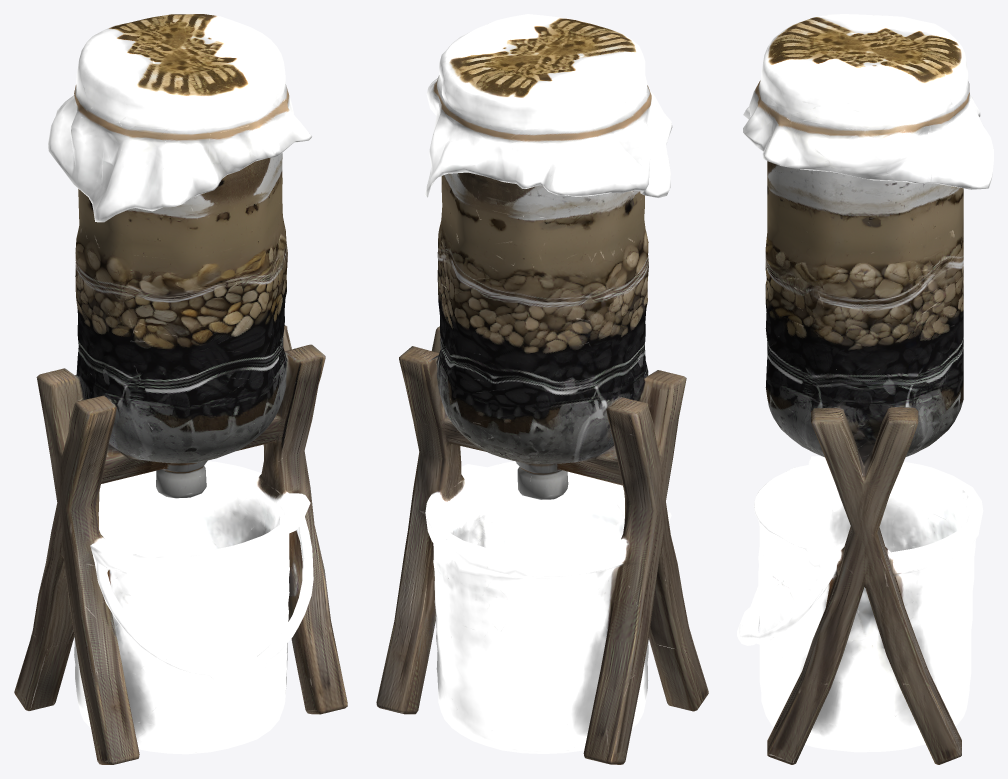
The model's file is Meshy_AI_Pebble_Bed_Drip_Coffe_0519123109_texture.fbx.
The picture shows the model from 3 angles, left to right: view 1: azimuth 30°, elevation 25°; view 2: azimuth 150°, elevation 25°; view 3: azimuth 270°, elevation 25°; orthographic projection.
Visible parts, largest first — view 1: Mesh_0; view 2: Mesh_0; view 3: Mesh_0.
Part boxes in pixels (x1,y1,x2,y2): Mesh_0: (14,14,347,764); Mesh_0: (376,14,708,764); Mesh_0: (737,14,993,764).
Bounding box in the file's own units: 71.62 × 191 × 66.54.
Materials: 1 (1 with a texture image).
